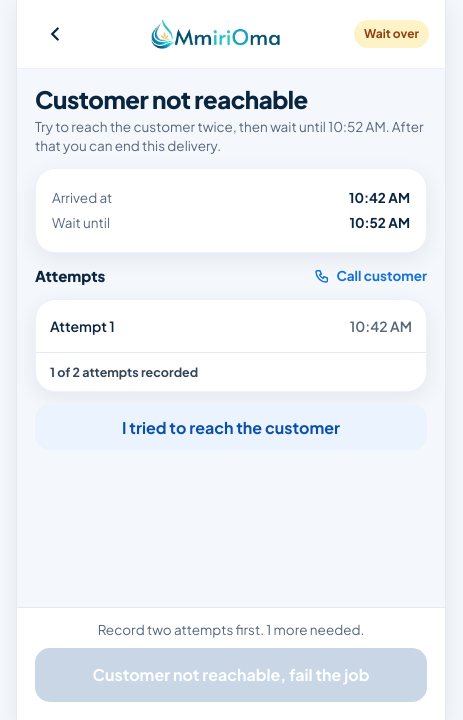
Test: a step that fails after the job has loaded › keeps the screen and offers the way home when the job was reassigned
Click the button "I tried to reach the customer" at (231, 427), box [35, 404, 427, 450]
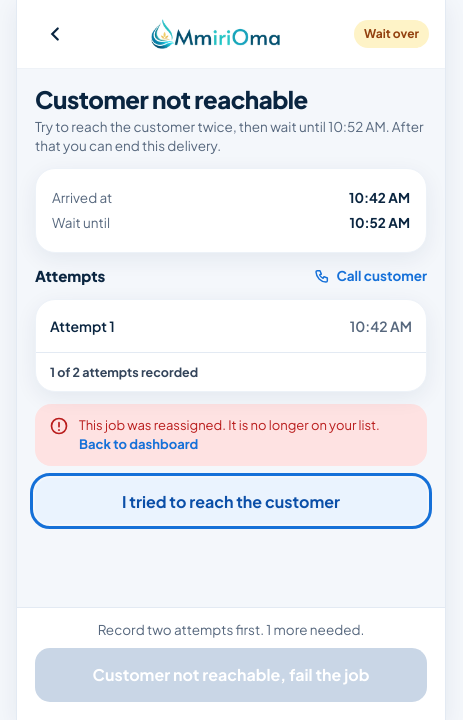
Expected: the heading "Customer not reachable" is shown, [35, 84, 308, 114]
Result: the text "This job was reassigned. It is no longer on your list." is shown at [79, 417, 380, 433]
